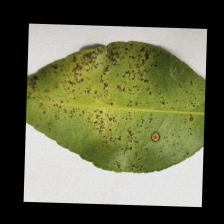canker: (71, 58, 172, 154)
